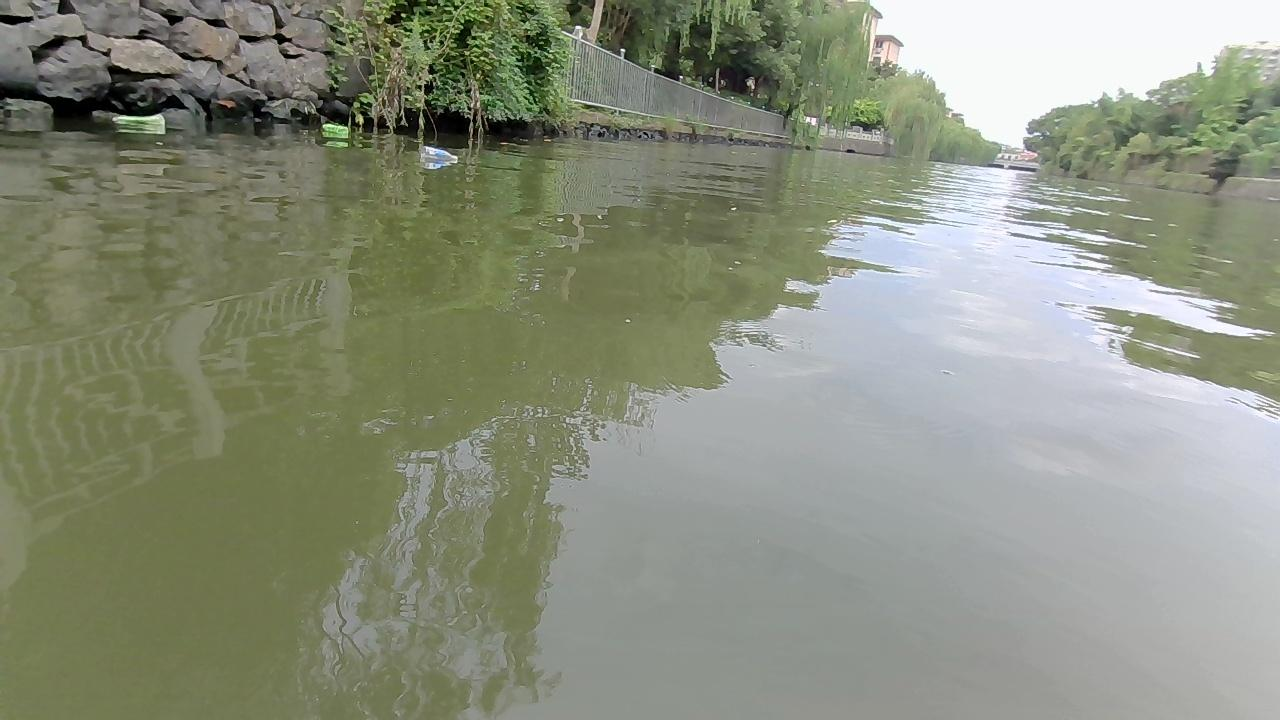bottle: (418, 144, 458, 161), (111, 112, 165, 124), (321, 122, 347, 132)
